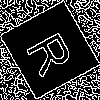R: (24, 25, 83, 79)
